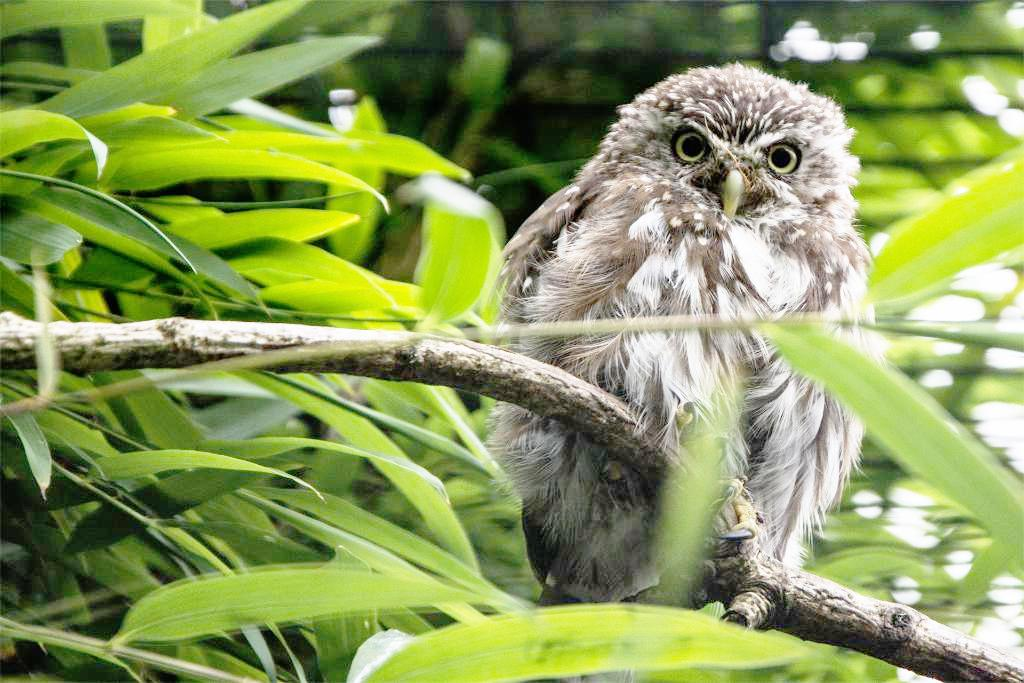Owl: (479, 66, 892, 612)
